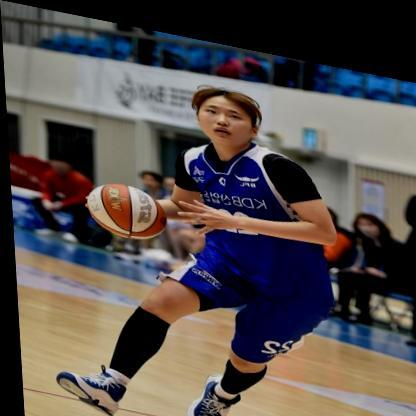basketball: (83, 173, 166, 240)
